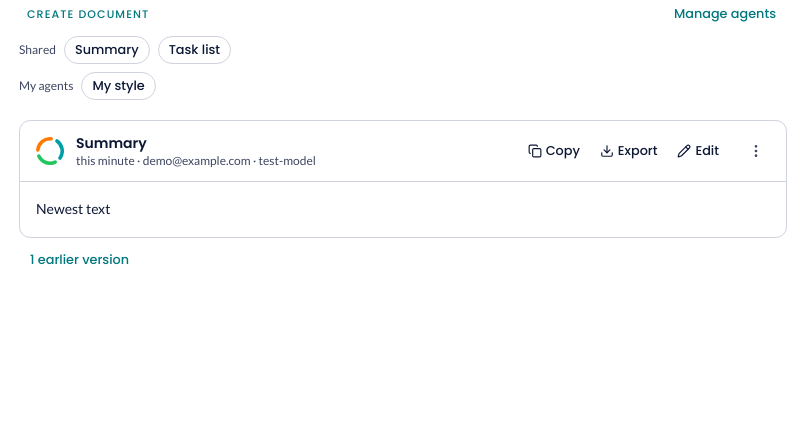
keeps earlier versions folded and flags notes from an older transcript
The width and height of the screenshot is (804, 445).
Expected: the text "Newest text" is shown, x1=36 y1=200 x2=110 y2=217
Expected: the text "Older text" is not shown
Step 1. Click the button "1 earlier version" → coordinates (80, 260), box x1=19 y1=246 x2=140 y2=274
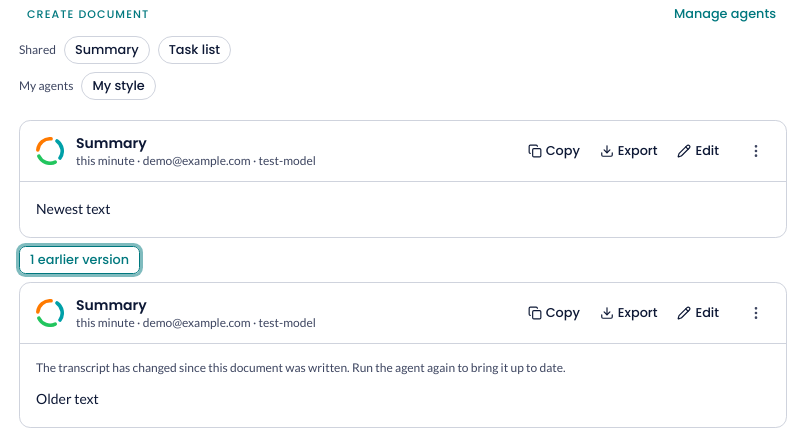
Now the text "Older text" is shown, box x1=36 y1=390 x2=99 y2=407
Now the text "The transcript has changed since this document was written" is shown, box x1=36 y1=360 x2=566 y2=375
